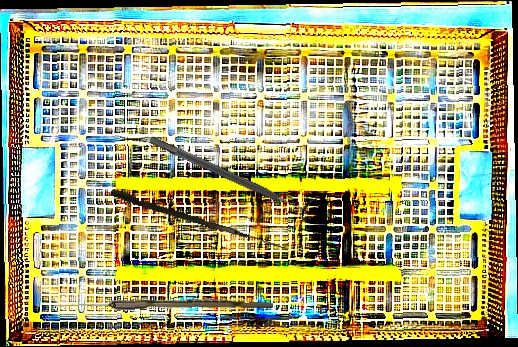Fixation Ring: (144, 126, 319, 224)
Hook Surgical: (109, 188, 291, 251)
Surgical Spoon: (53, 297, 274, 312)
